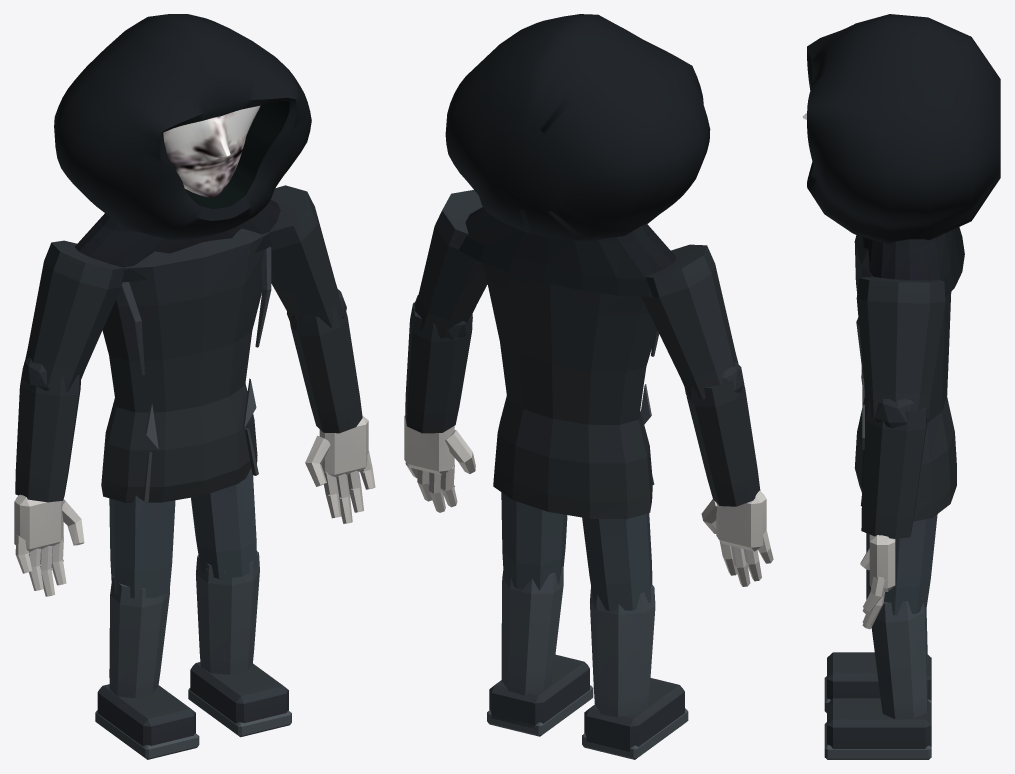
Rendered from HoodedStranger.glb.
The picture shows the model from 3 angles, left to right: view 1: azimuth 30°, elevation 25°; view 2: azimuth 150°, elevation 25°; view 3: azimuth 270°, elevation 25°; orthographic projection. The views are drawn at different scales.
Visible parts, largest first — view 1: Head, Body, ArmR, ArmL, LegR, LegL, HeadFace; view 2: Head, Body, ArmR, LegR, ArmL, LegL; view 3: Head, ArmL, LegL, Body, LegR.
Boxes of the visible parts, x1,y1,x2,y2 form: Head: (54, 14, 311, 282); Body: (101, 228, 271, 502); ArmR: (14, 240, 124, 596); ArmL: (268, 185, 375, 523); LegR: (95, 495, 199, 759); LegL: (188, 468, 291, 737); HeadFace: (163, 105, 260, 198); Head: (445, 14, 710, 297); Body: (482, 263, 658, 519); ArmR: (641, 244, 773, 586); LegR: (582, 513, 688, 759); ArmL: (404, 190, 487, 512); LegL: (487, 492, 593, 736); Head: (807, 14, 1000, 297); ArmL: (856, 276, 945, 629); LegL: (824, 514, 937, 759); Body: (854, 235, 956, 521); LegR: (824, 533, 931, 712).
Size of the model in its own units: 3.74 by 7.01 by 1.78.
2 materials, 1 textured.
